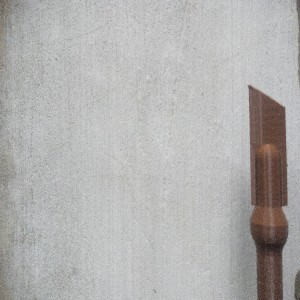cutter: (247, 82, 290, 300)
